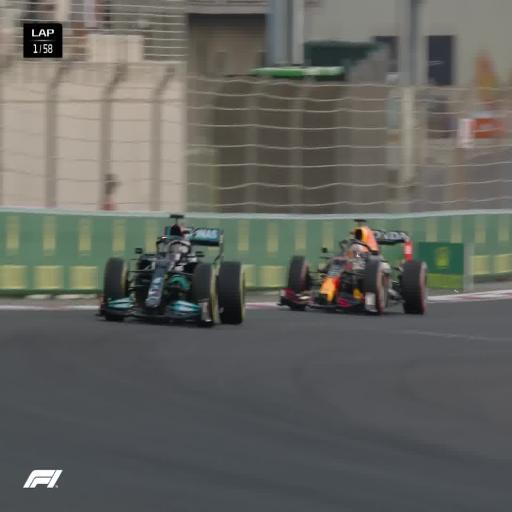f1_car: (99, 215, 245, 325), (278, 219, 427, 313)
